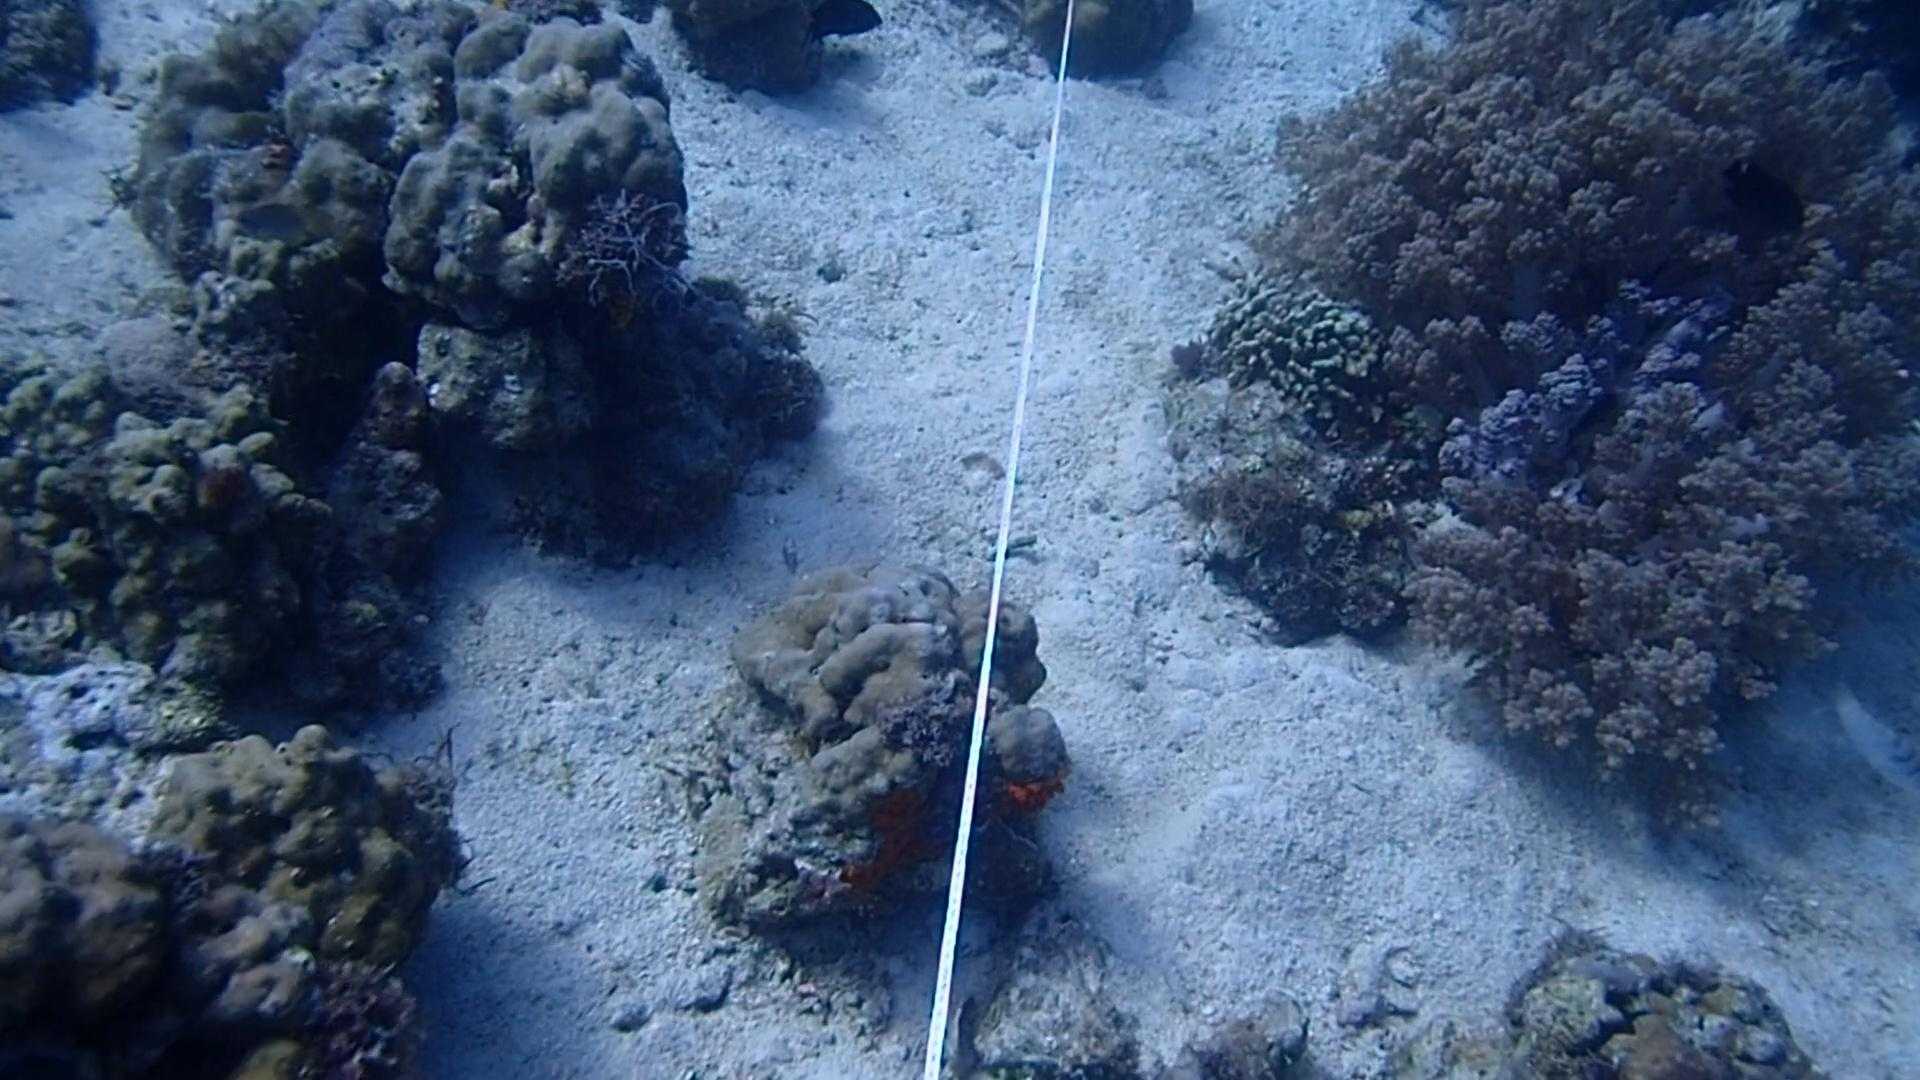Dark Fish: (1714, 154, 1816, 248), (1559, 380, 1618, 460), (803, 0, 882, 50)
Light Fish w Back Stripes: (1833, 683, 1920, 794)
